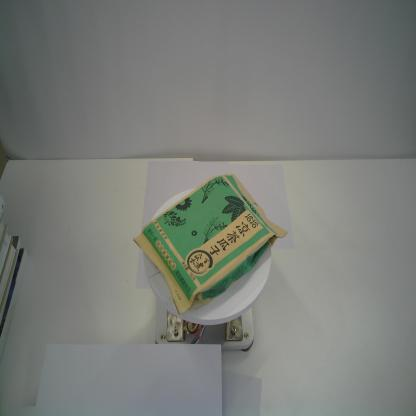Dried Food: (133, 171, 289, 317)
